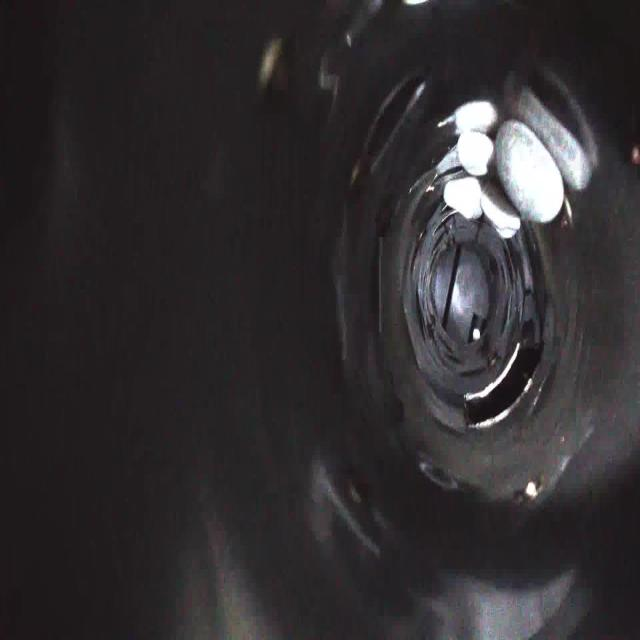crack: (406, 285, 431, 351), (498, 294, 535, 338), (500, 236, 530, 288), (428, 207, 458, 251), (434, 335, 464, 376), (405, 235, 426, 280), (458, 362, 494, 387), (467, 209, 498, 235)
hole: (459, 345, 544, 438)
